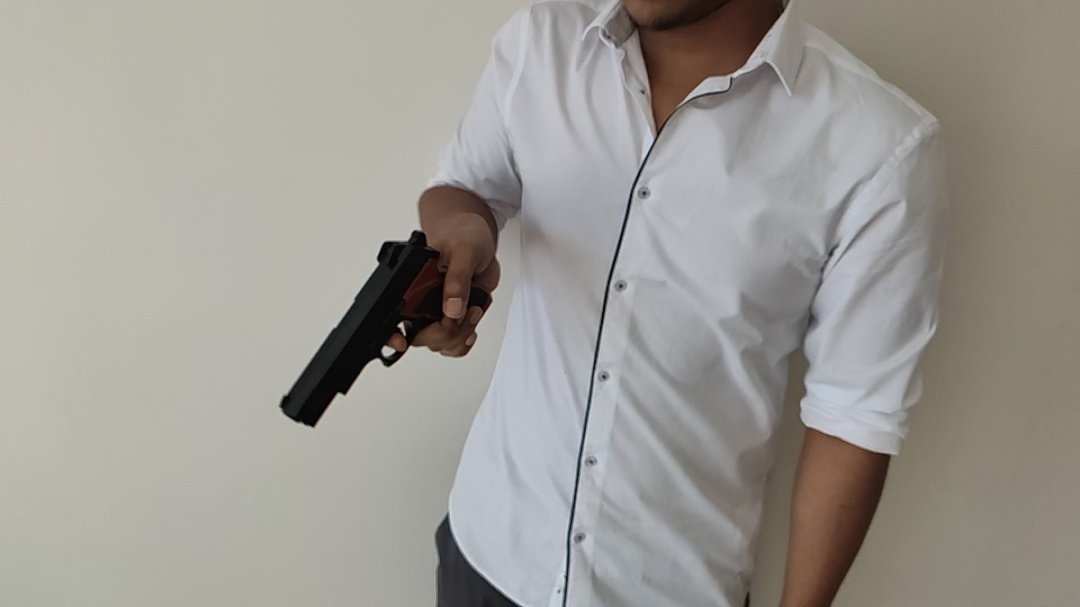gun: (101, 78, 1029, 541)
